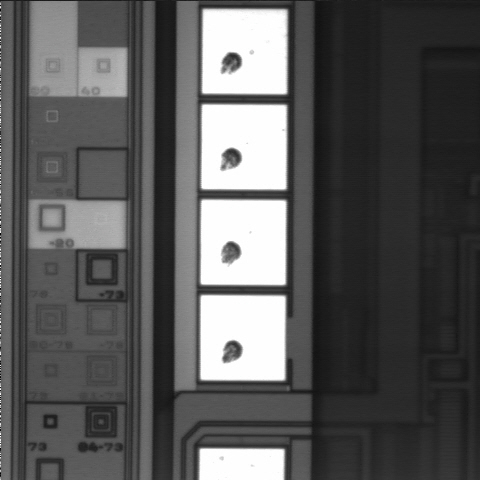pad: (202, 9, 287, 94), (201, 200, 286, 285), (200, 295, 285, 380), (201, 105, 287, 189)
